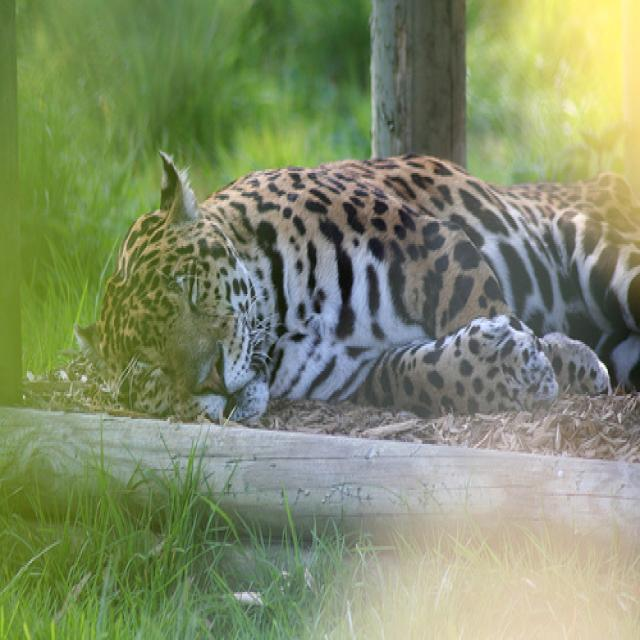Leopard: (69, 142, 638, 423)
